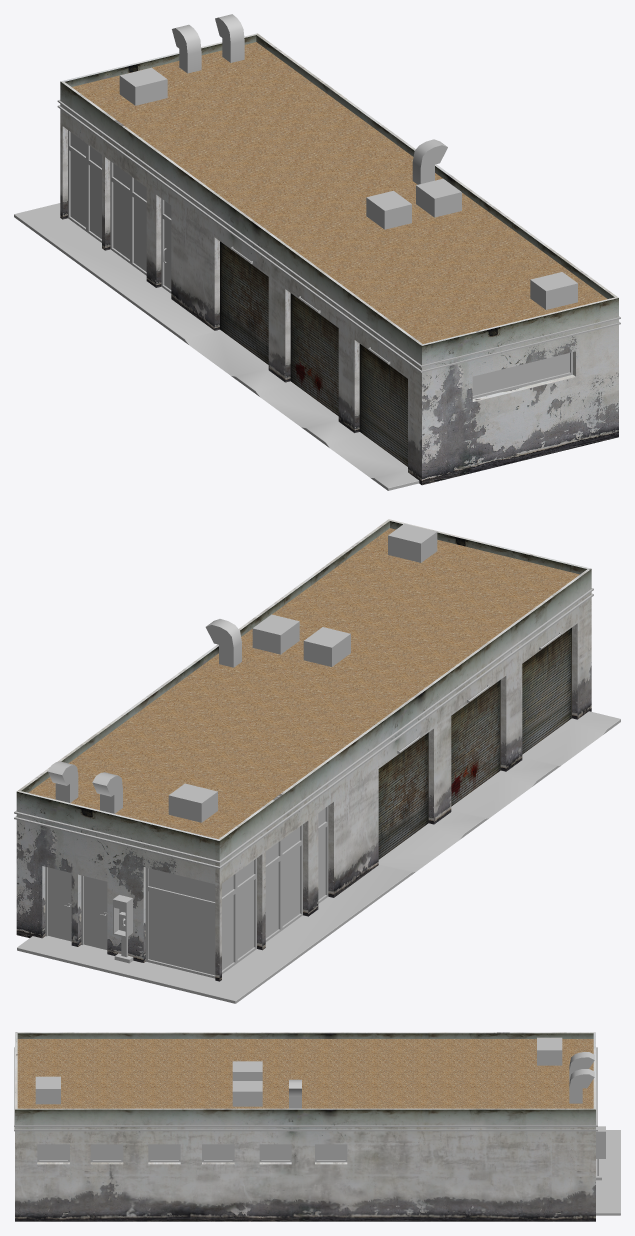
File: GasBuilding1.FBX
3 renders of one model, top to bottom at view 1: azimuth 30°, elevation 25°; view 2: azimuth 150°, elevation 25°; view 3: azimuth 270°, elevation 25°, orthographic. The views are drawn at different scales.
Visible parts, largest first — view 1: Box001, TechoGasolinera, Box008, Portones ventanas, warhouse, PtaGaraje_1, PtaGaraje_2, PtaGaraje_3, Box016, Box018; view 2: TechoGasolinera, Box001, Box008, Portones ventanas, warhouse, PtaGaraje_1, PtaGaraje_2, PtaGaraje_3, Box018, Box016, Box02; view 3: Box001, TechoGasolinera, warhouse, Portones ventanas, Box008, Box016, Box018, Box02.
Boxes of the visible parts, <box> form: Box001: <box>60,33,618,485</box>; TechoGasolinera: <box>72,42,607,343</box>; Box008: <box>14,203,419,490</box>; Portones ventanas: <box>68,130,572,398</box>; warhouse: <box>119,14,577,309</box>; PtaGaraje_1: <box>220,241,268,364</box>; PtaGaraje_2: <box>290,293,338,415</box>; PtaGaraje_3: <box>359,344,407,466</box>; Box016: <box>57,105,620,372</box>; Box018: <box>57,100,620,367</box>; TechoGasolinera: <box>28,528,579,839</box>; Box001: <box>16,519,591,981</box>; Box008: <box>17,711,620,1003</box>; Portones ventanas: <box>45,806,328,978</box>; warhouse: <box>48,523,437,822</box>; PtaGaraje_1: <box>378,732,428,859</box>; PtaGaraje_2: <box>451,680,500,806</box>; PtaGaraje_3: <box>522,627,571,754</box>; Box018: <box>14,588,593,863</box>; Box016: <box>14,593,593,869</box>; Box02: <box>113,895,133,963</box>; Box001: <box>15,1032,595,1221</box>; TechoGasolinera: <box>17,1039,593,1108</box>; warhouse: <box>35,1037,594,1108</box>; Portones ventanas: <box>37,1144,347,1162</box>; Box008: <box>596,1130,620,1215</box>; Box016: <box>14,1127,597,1131</box>; Box018: <box>14,1047,597,1126</box>; Box02: <box>596,1126,605,1180</box>.
Bounding box in the file's own units: 8.72 × 6.13 × 24.85.
